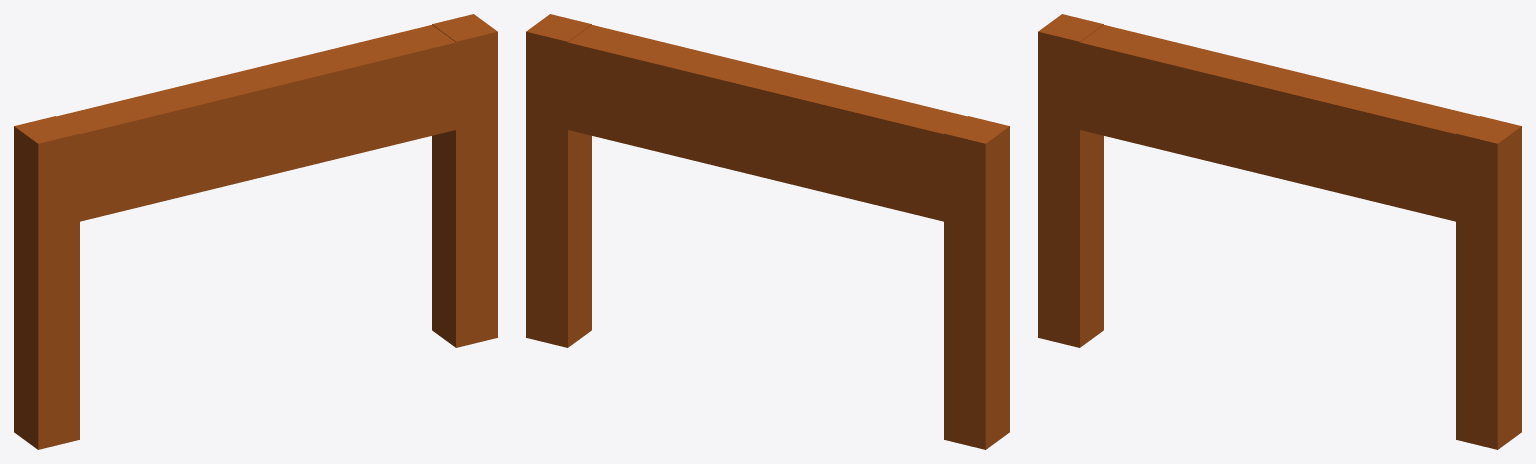
File: flag.obj
3 renders of one model, left to right at view 1: azimuth 30°, elevation 25°; view 2: azimuth 150°, elevation 25°; view 3: azimuth 330°, elevation 25°, orthographic.
Parts seen in each view (by area): view 1: Box002; view 2: Box002; view 3: Box002.
Part boxes in pixels (x1,y1,x2,y2): Box002: [14, 14, 497, 449]; Box002: [526, 14, 1009, 449]; Box002: [1038, 14, 1521, 449].
Size of the model in its own units: 55 by 35 by 5.
